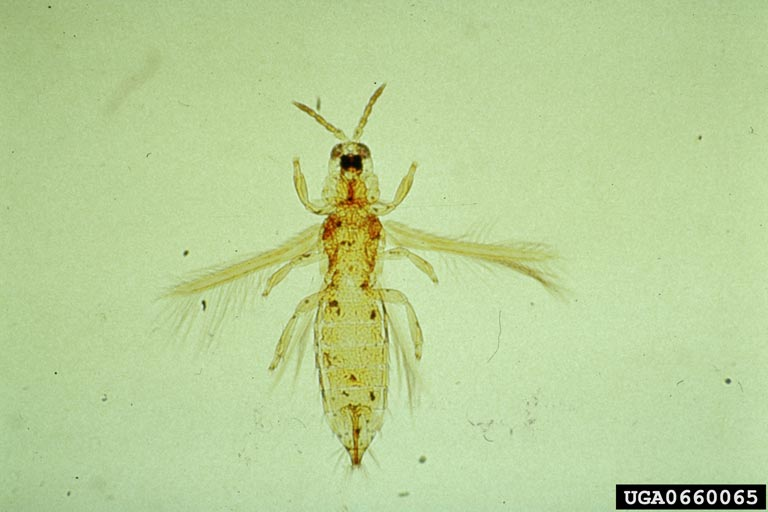Thripidae: (153, 82, 568, 472)
